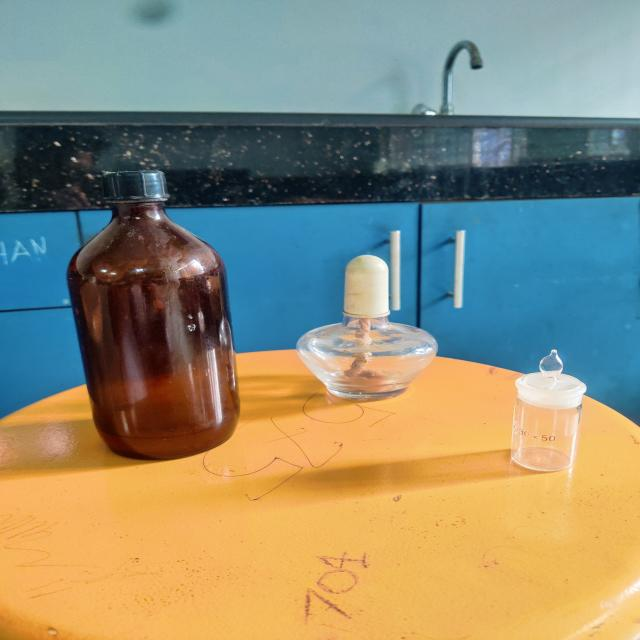Nessler_Reagent_Bottle: (34, 152, 260, 474)
Spirit_Lamp: (278, 236, 454, 430)
Weighing_Bottle: (502, 330, 601, 491)
